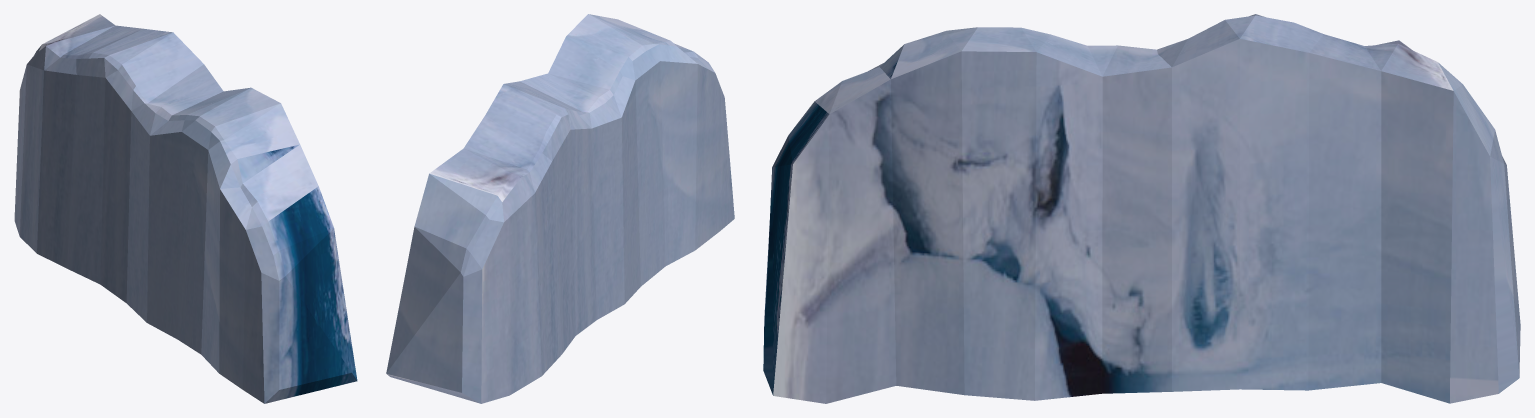
The model's file is iceWall.fbx.
3 views of the same model, side by side, from view 1: azimuth 30°, elevation 25°; view 2: azimuth 150°, elevation 25°; view 3: azimuth 270°, elevation 25° (orthographic). The views are drawn at different scales.
Parts seen in each view (by area): view 1: Cube; view 2: Cube; view 3: Cube.
Boxes of the visible parts, left/top/right/bottom form: Cube: left=14, top=14, right=357, bottom=403; Cube: left=386, top=14, right=734, bottom=403; Cube: left=763, top=14, right=1520, bottom=403.
Size of the model in its own units: 1.46 by 2.93 by 5.72.
